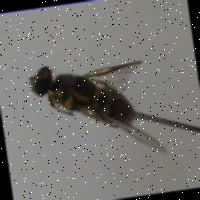Oriental-fruit-fly: (20, 46, 176, 178)
